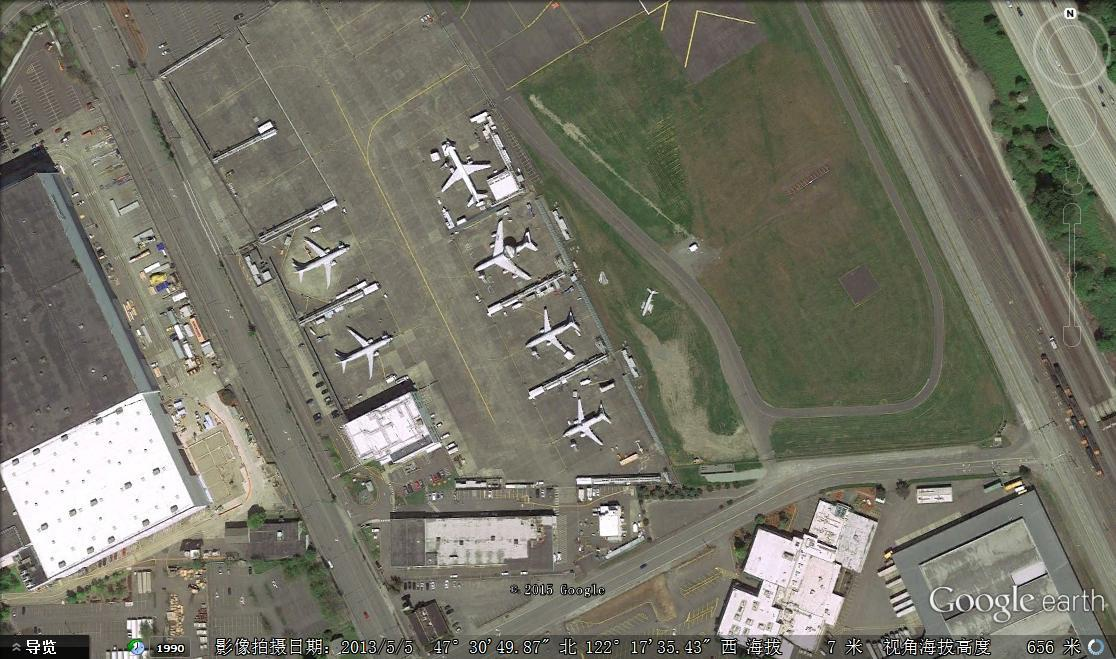aircraft: (468, 213, 542, 285), (329, 323, 398, 385), (436, 140, 495, 209), (521, 305, 586, 362), (290, 235, 355, 291), (559, 393, 616, 451), (633, 282, 663, 323)
